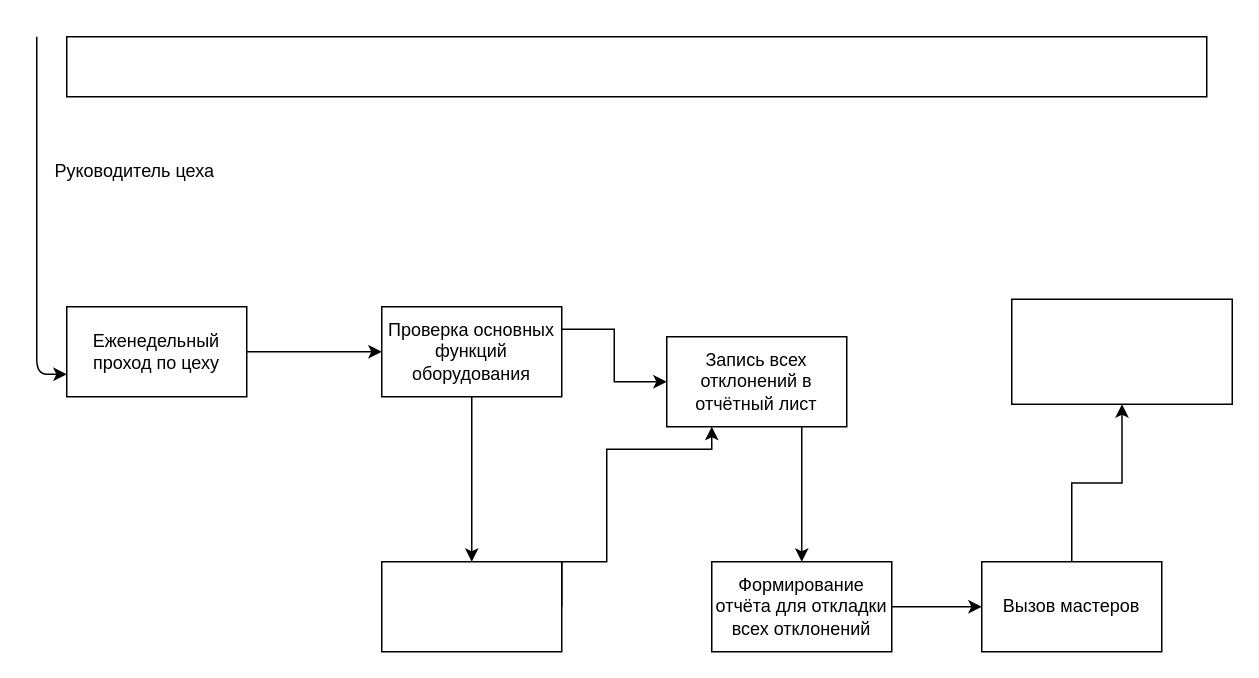
Image size: 1259x678. Some labels were removed from this diagram. The shapes that lost their labels are listed below. From the top down, each one's centre as x and y in pixels, then its label:
pixel 636 66: Введение отчетов о качестве работы оборудования
pixel 1121 351: Бесперебойная и качественная работа оборудования
pixel 471 606: Ежемесячное проведние тестов для сотрудников
